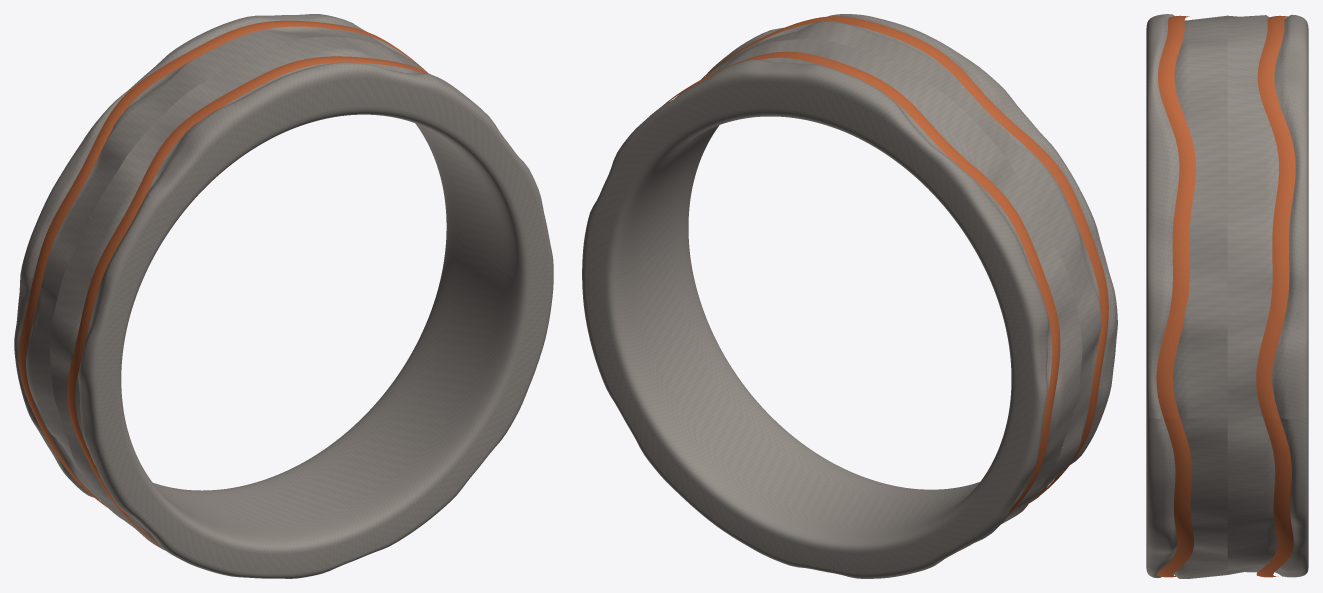
The model's file is cindersteel_ring.glb.
3 views of the same model, side by side, from view 1: azimuth 30°, elevation 25°; view 2: azimuth 150°, elevation 25°; view 3: azimuth 270°, elevation 25° (orthographic). The views are drawn at different scales.
Parts seen in each view (by area): view 1: Hammered charcoal cindersteel, Recessed hot copper seams; view 2: Hammered charcoal cindersteel, Recessed hot copper seams; view 3: Hammered charcoal cindersteel, Recessed hot copper seams.
Boxes of the visible parts, bbox=[...] form: Hammered charcoal cindersteel: bbox=[14, 14, 553, 578]; Recessed hot copper seams: bbox=[18, 20, 428, 546]; Hammered charcoal cindersteel: bbox=[582, 14, 1117, 578]; Recessed hot copper seams: bbox=[663, 16, 1108, 551]; Hammered charcoal cindersteel: bbox=[1146, 14, 1308, 578]; Recessed hot copper seams: bbox=[1156, 15, 1295, 577].
Bounding box in the file's own units: 0.0239 × 0.0247 × 0.007.
2 materials, 2 textured.
